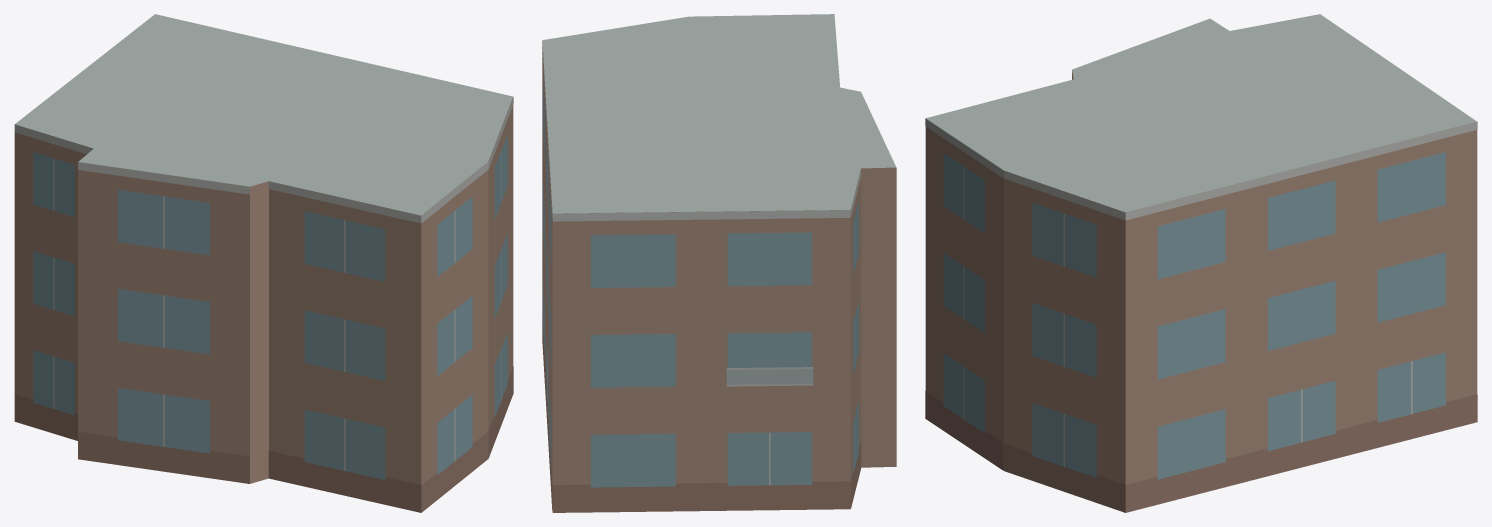
The model's file is survey-upis-32604963.glb.
3 renders of one model, left to right at view 1: azimuth 30°, elevation 25°; view 2: azimuth 150°, elevation 25°; view 3: azimuth 270°, elevation 25°, orthographic.
Parts seen in each view (by area): view 1: survey-upis-32604963.tmp; view 2: survey-upis-32604963.tmp; view 3: survey-upis-32604963.tmp.
Part boxes in pixels (<box>): survey-upis-32604963.tmp: <box>14,14,513,512</box>; survey-upis-32604963.tmp: <box>542,14,896,512</box>; survey-upis-32604963.tmp: <box>925,14,1477,512</box>.
Size of the model in its own units: 12.97 by 9.15 by 15.25.
